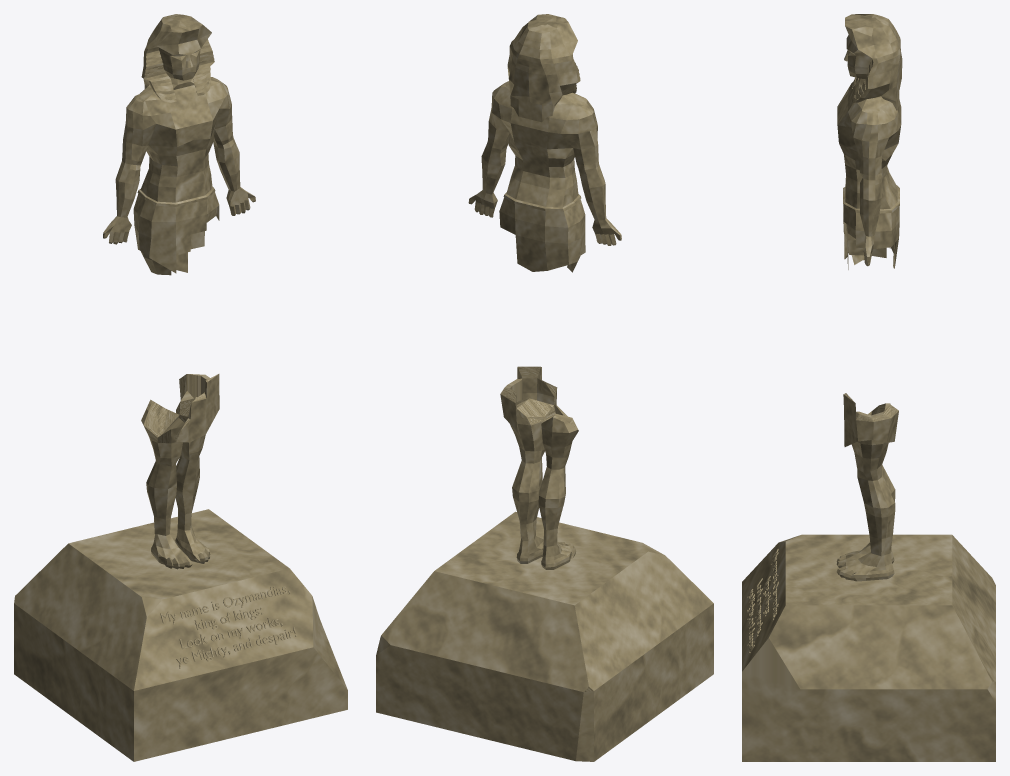
The model's file is Ozymandias.fbx.
The picture shows the model from 3 angles, left to right: view 1: azimuth 30°, elevation 25°; view 2: azimuth 150°, elevation 25°; view 3: azimuth 270°, elevation 25°; orthographic projection. The views are drawn at different scales.
Visible parts, largest first — view 1: Cube, Text; view 2: Cube; view 3: Cube, Text.
Boxes of the visible parts, left/top/right/bottom form: Cube: left=14, top=14, right=347, bottom=761; Text: left=160, top=586, right=296, bottom=668; Cube: left=376, top=14, right=713, bottom=761; Cube: left=742, top=14, right=995, bottom=761; Text: left=746, top=548, right=778, bottom=653.
Size of the model in its own units: 3.05 by 9.13 by 3.05.
